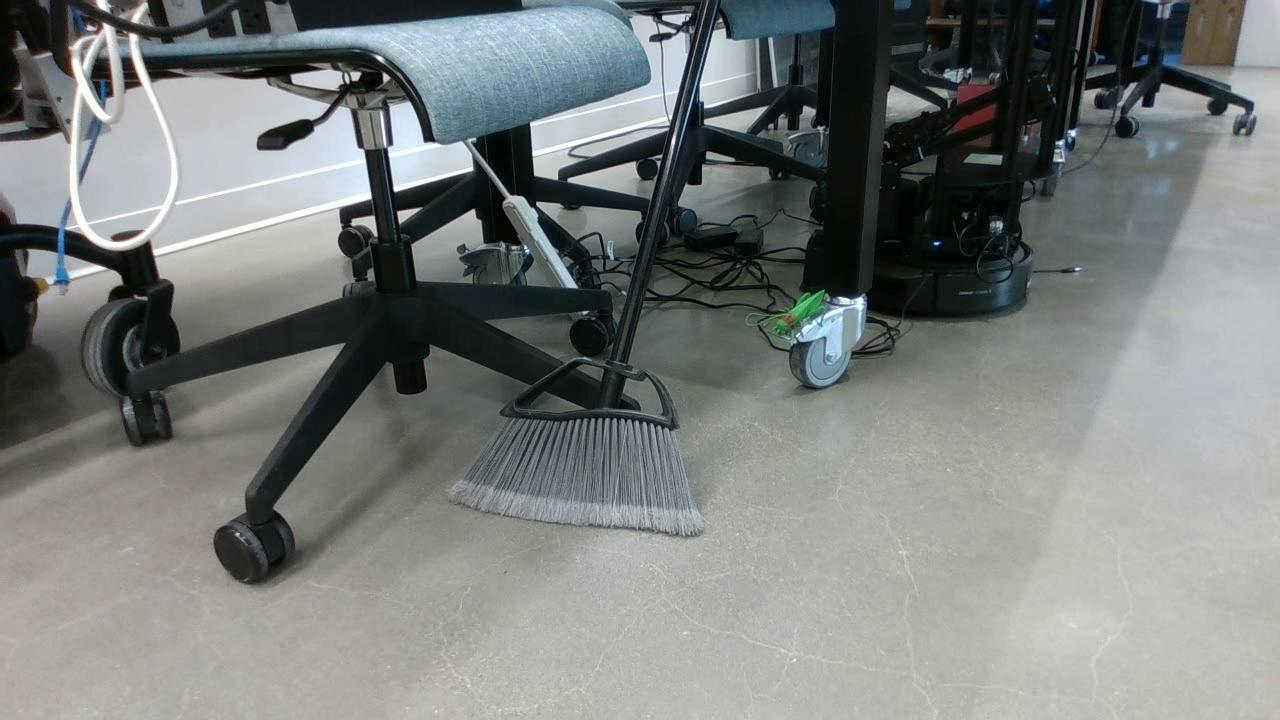grasshopper: (767, 287, 827, 341)
